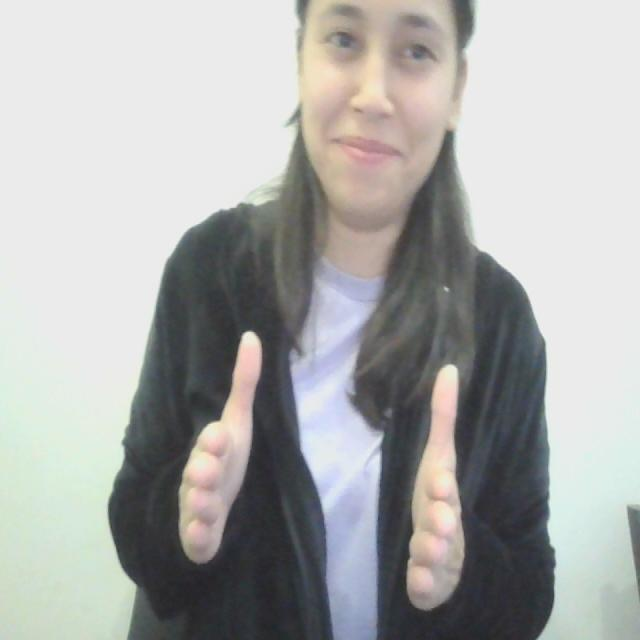Nasil: (155, 330, 473, 604)
